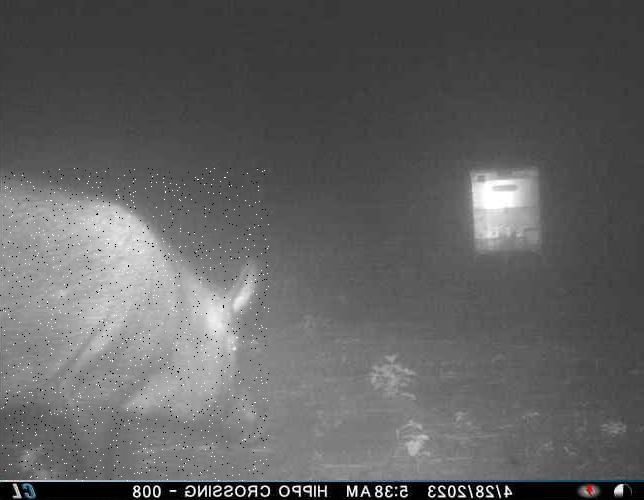Hog: (0, 168, 269, 481)
